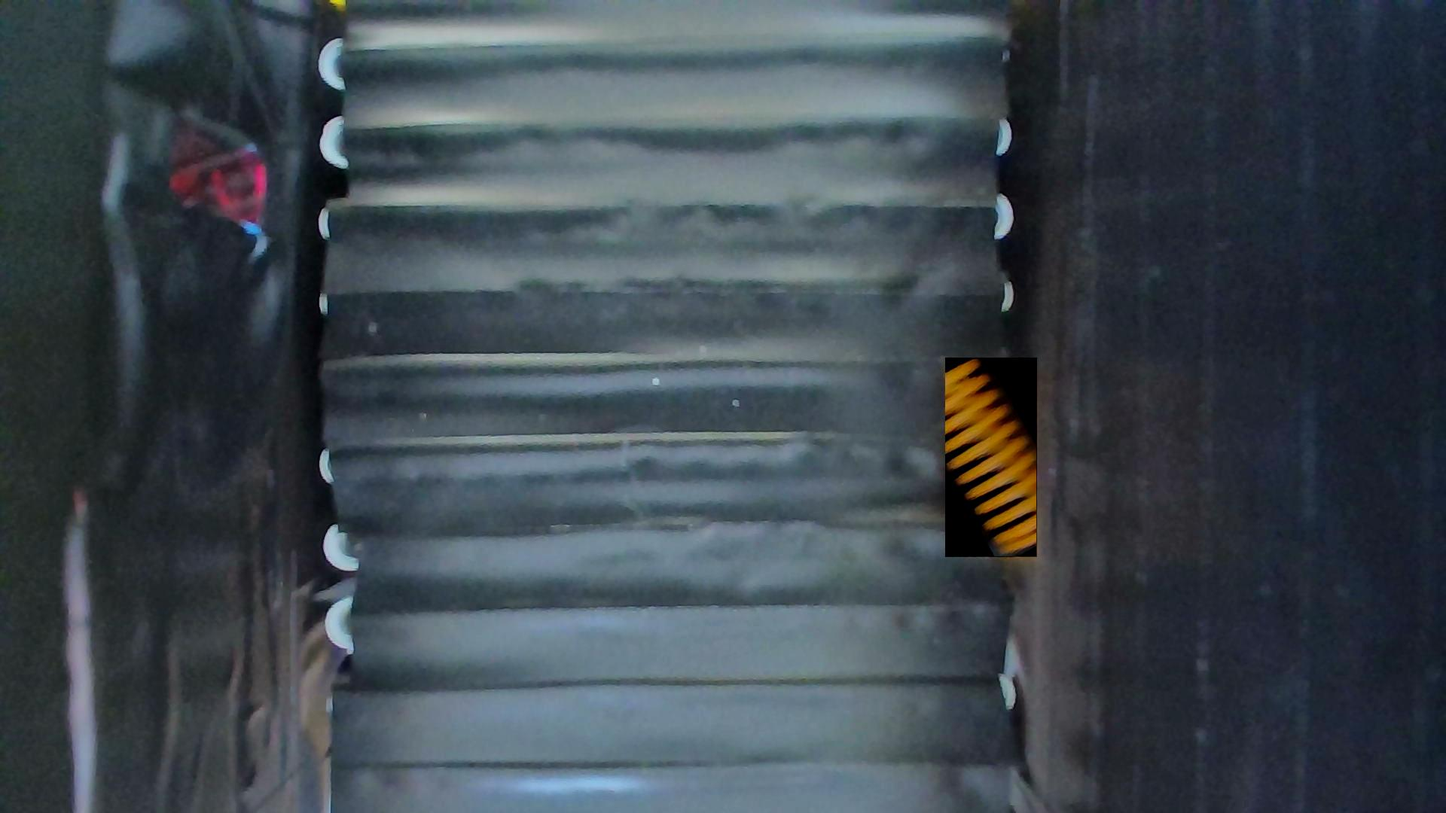spring: (946, 358, 1038, 558)
